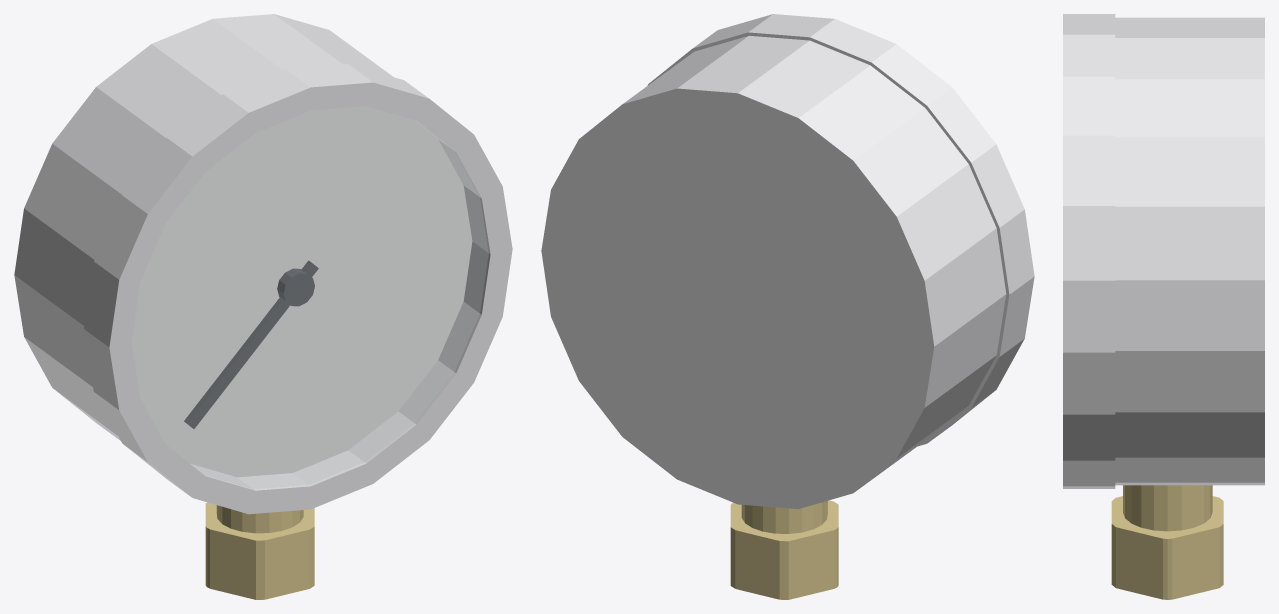
The model's file is hyd-gauge.glb.
The picture shows the model from 3 angles, left to right: view 1: azimuth 30°, elevation 25°; view 2: azimuth 150°, elevation 25°; view 3: azimuth 270°, elevation 25°; orthographic projection. The views are drawn at different scales.
Visible parts, largest first — view 1: body, port-1, pointer; view 2: body, port-1; view 3: body, port-1.
Part boxes in pixels (<box>): body: <box>14,14,512,533</box>; port-1: <box>205,502,314,599</box>; pointer: <box>184,260,318,428</box>; body: <box>541,14,1034,533</box>; port-1: <box>730,500,838,599</box>; body: <box>1063,14,1264,531</box>; port-1: <box>1111,496,1223,599</box>.
Size of what is drawn, in the model's own units: 0.064 by 0.0795 by 0.027.
